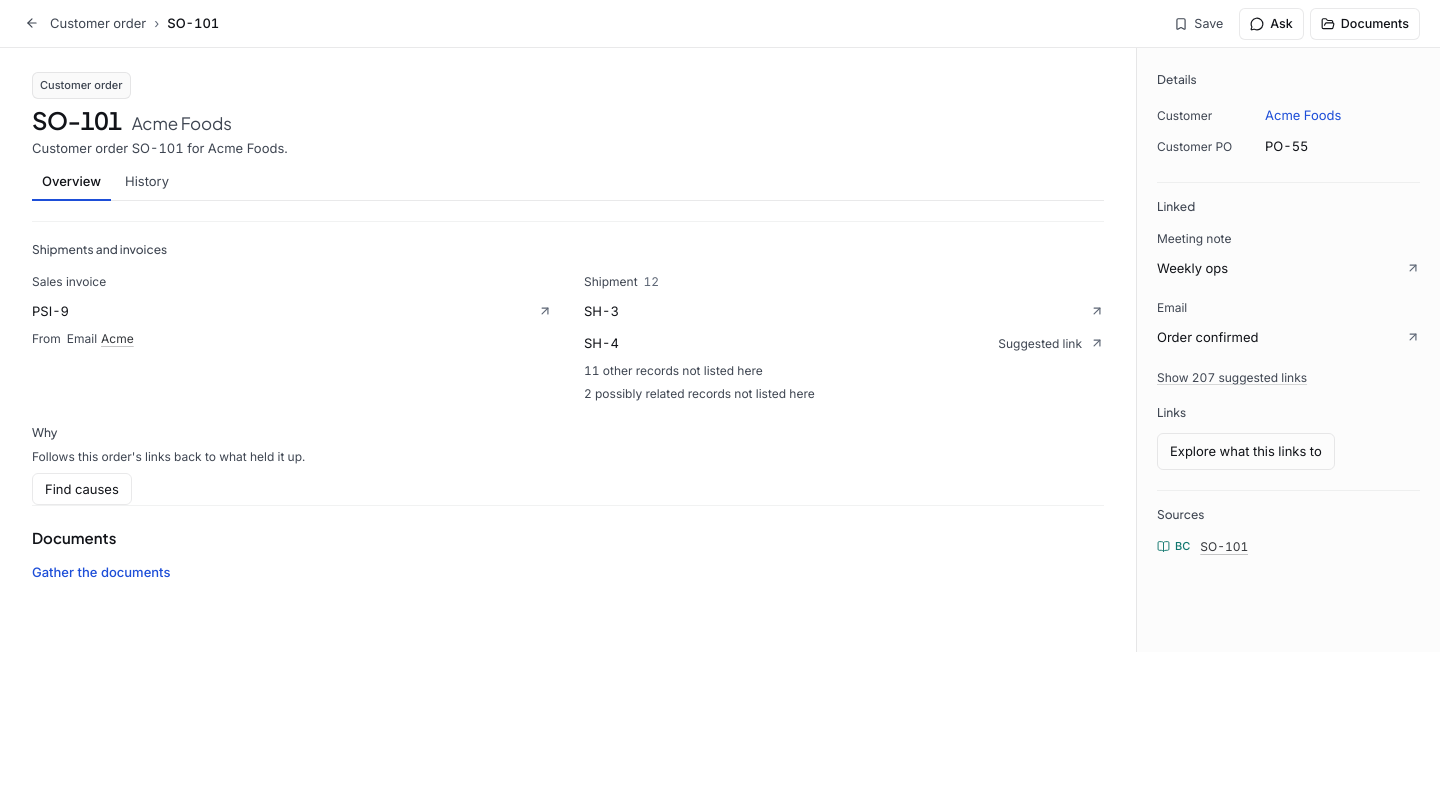
a customer order's page › leads the Linked panel with confirmed links; suggested ones wait behind one toggle (owner walk C6)
The image size is (1440, 810).
Expected: the heading "SO-101 Acme Foods" is shown, [32, 105, 232, 135]
Expected: the element with test id "related" shows "Order confirmed", [1149, 321, 1428, 353]
Step 1. Click the button with test id "suggested-toggle" → coordinates (1232, 378), box [1157, 366, 1307, 389]
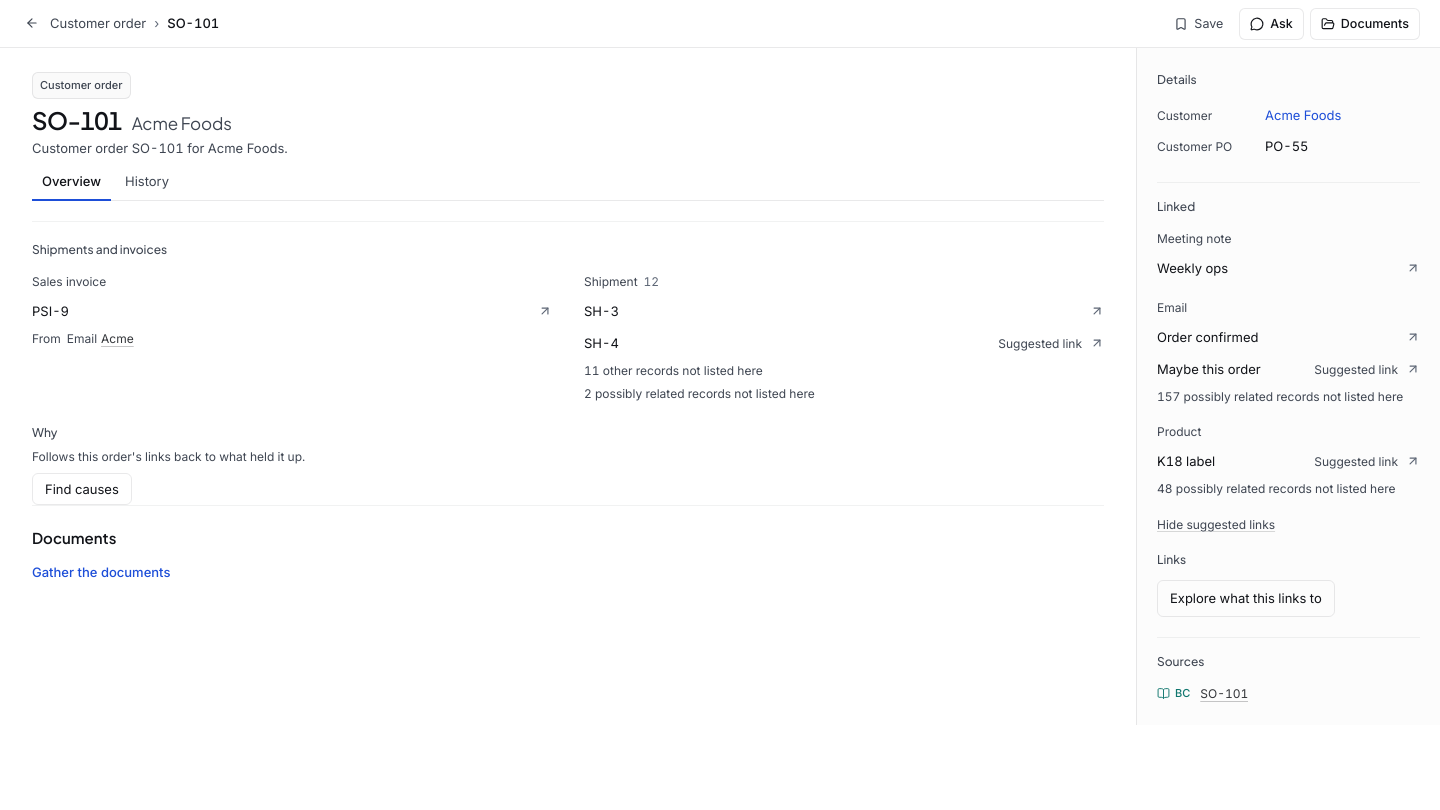
Expected: the element with test id "related" shows "Suggested link", [1149, 353, 1428, 385]
Expected: the element with test id "related" shows "Maybe this order", [1149, 353, 1428, 385]
Expected: the element with test id "link-group-Product.label_customer" shows "K18 label", [1149, 445, 1428, 477]
Step 2. Click the button with test id "suggested-toggle" → coordinates (1216, 524), box [1157, 513, 1275, 536]
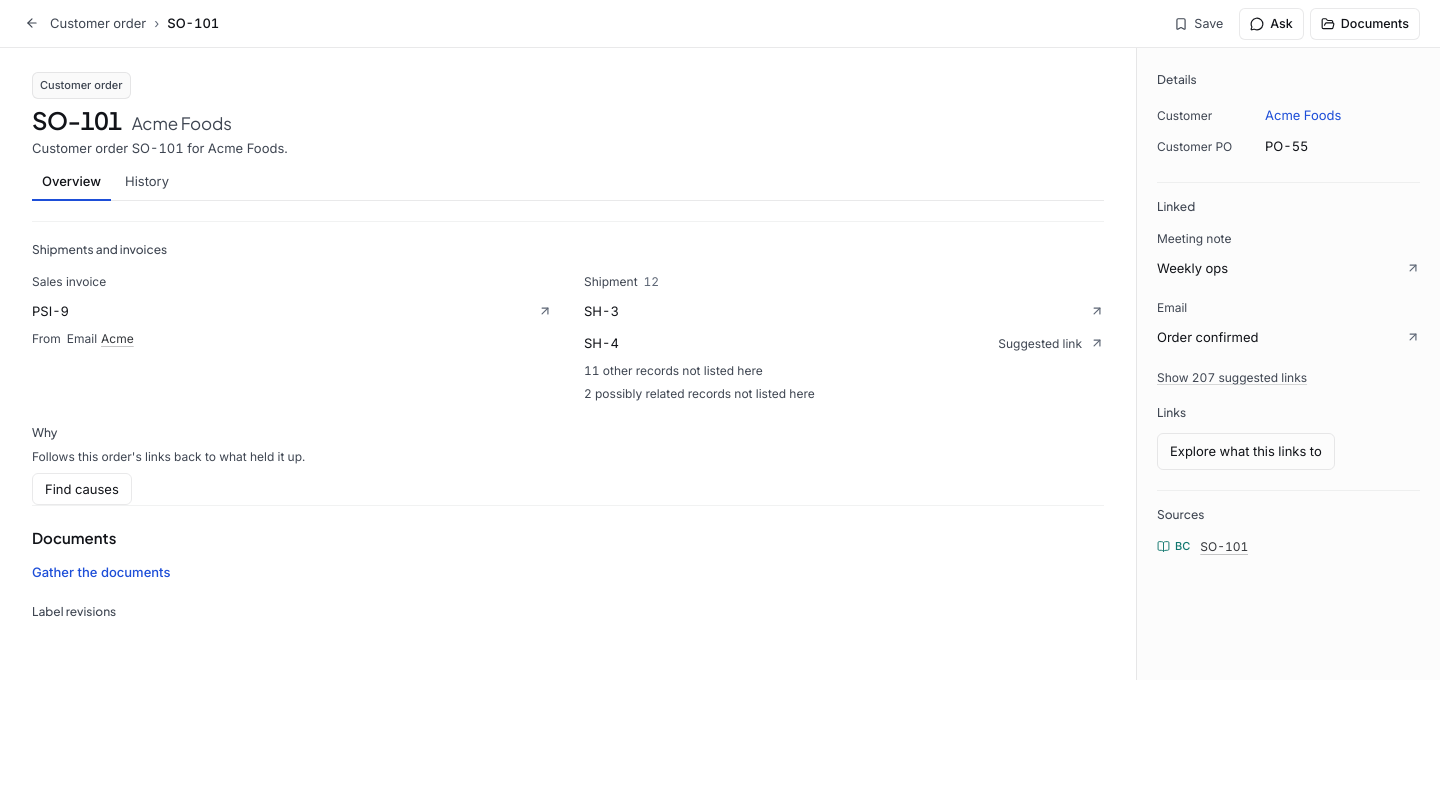
Expected: the element with test id "related" no longer shows "Maybe this order", [1157, 199, 1420, 389]
